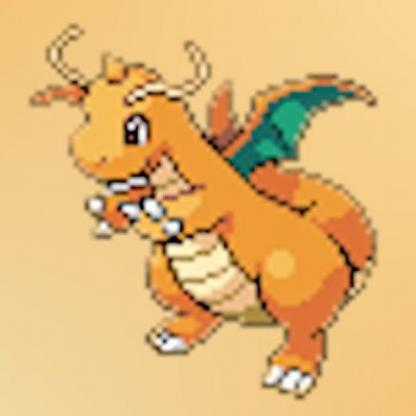Dragonite: (28, 30, 392, 406)
